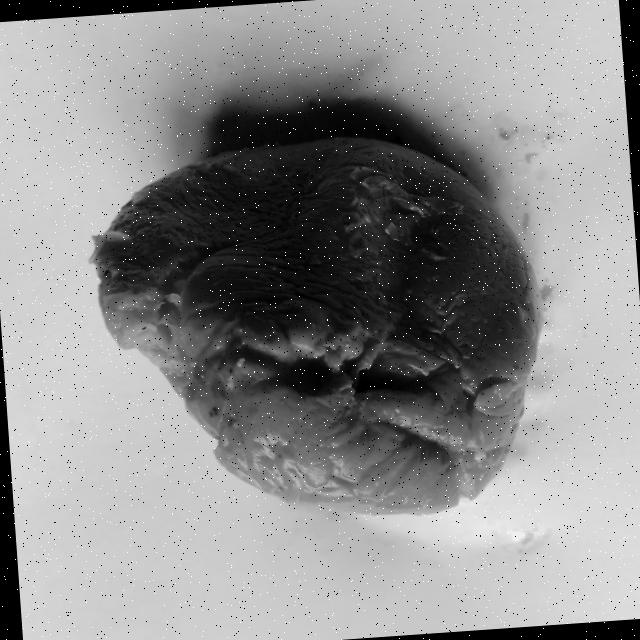Rotten: (80, 122, 552, 539)
